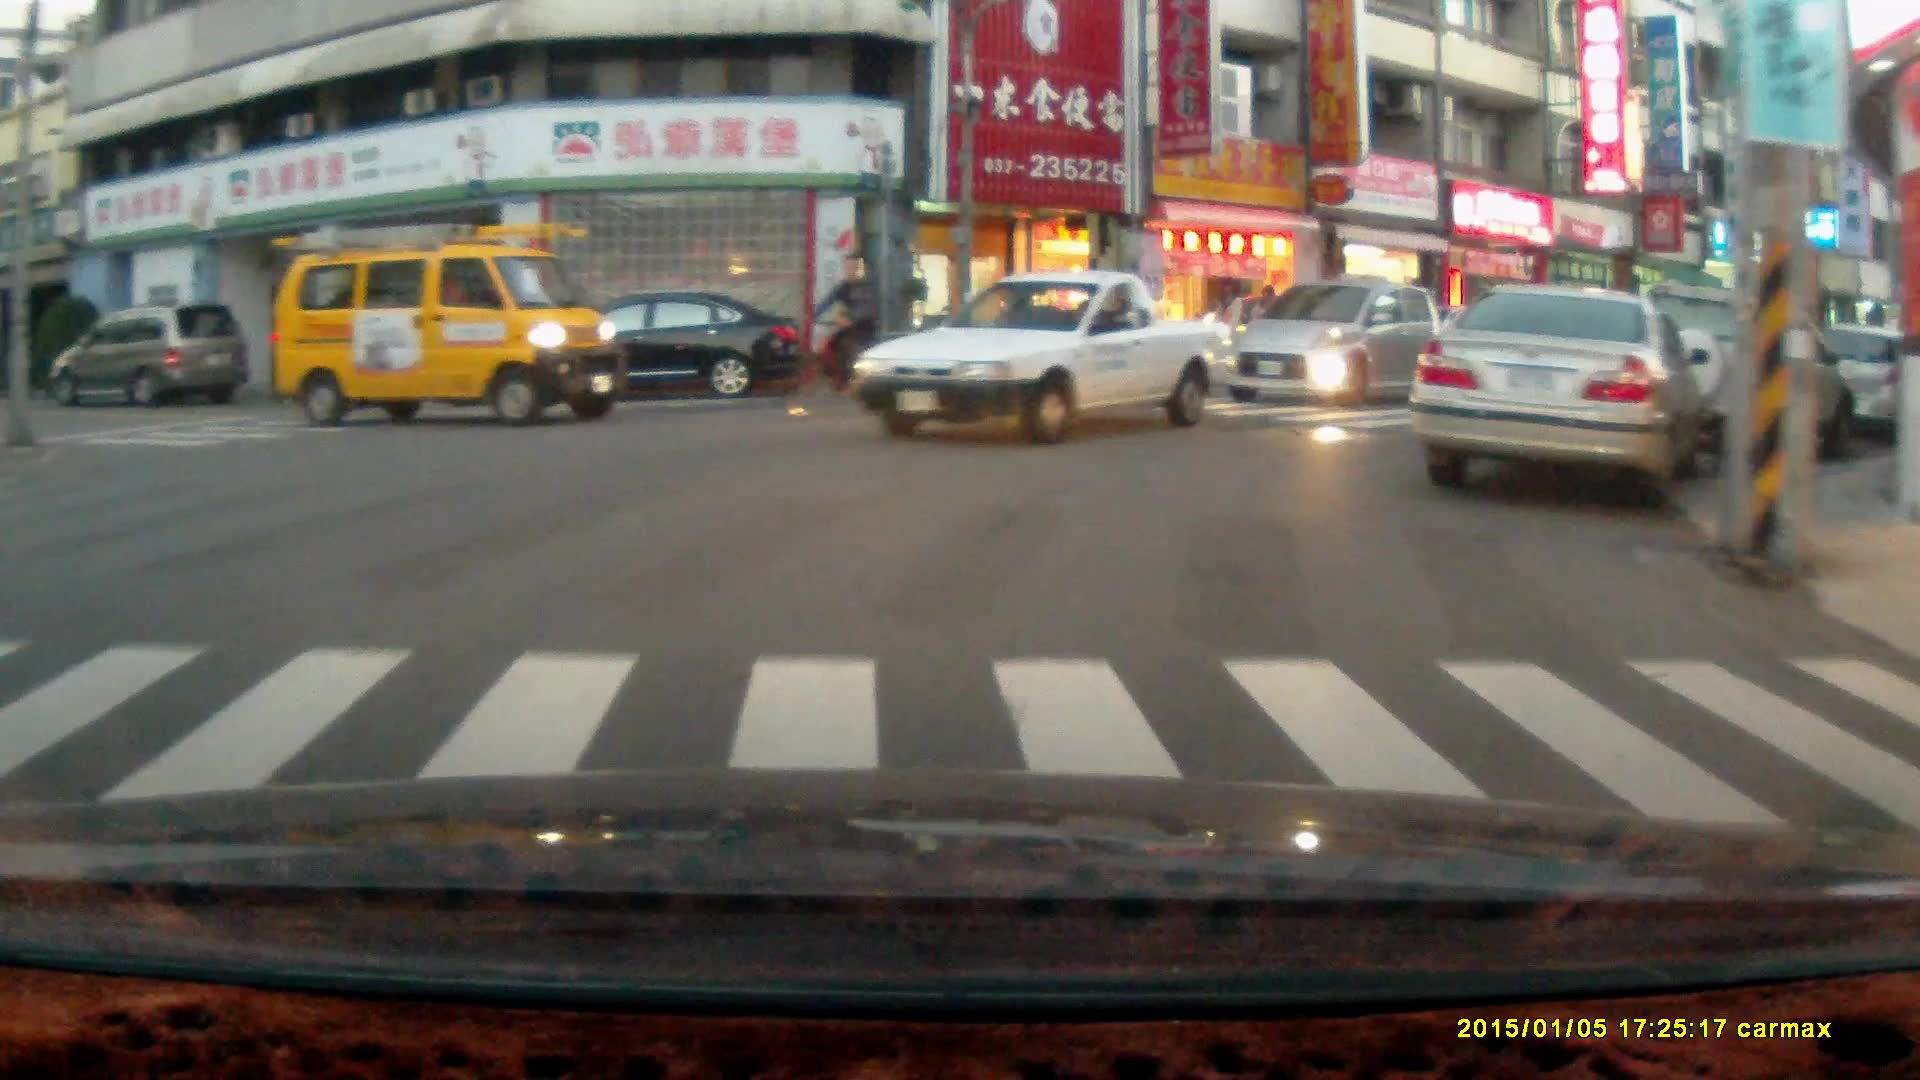pedestrian: (1212, 275, 1246, 370)
rider: (778, 251, 896, 416)
vehicle: (264, 224, 629, 430), (852, 270, 1240, 449), (1415, 281, 1701, 513), (1594, 291, 1863, 474), (516, 289, 804, 408), (1223, 276, 1446, 410), (48, 300, 248, 412)
